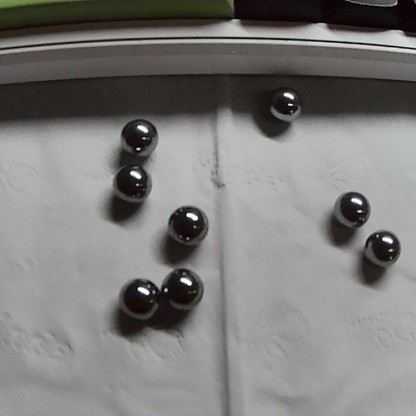ironball: (108, 116, 168, 166), (117, 262, 162, 320), (112, 158, 160, 210), (163, 195, 210, 245), (157, 265, 208, 309), (360, 225, 396, 276), (331, 186, 371, 228), (266, 80, 305, 120)
